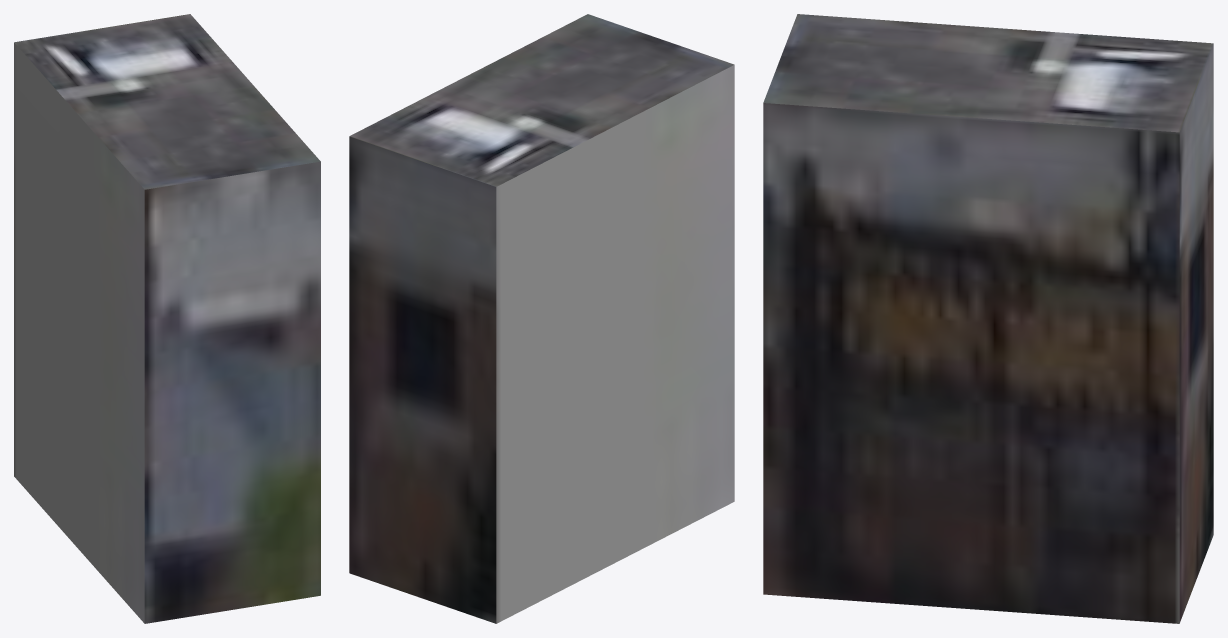
3 views of the same model, side by side, from view 1: azimuth 30°, elevation 25°; view 2: azimuth 150°, elevation 25°; view 3: azimuth 270°, elevation 25° (orthographic). The views are drawn at different scales.
Visible parts, largest first — view 1: B280494033101062A0; view 2: B280494033101062A0; view 3: B280494033101062A0.
Boxes of the visible parts, x1,y1,x2,y2 form: B280494033101062A0: (14, 14, 320, 623); B280494033101062A0: (349, 14, 734, 623); B280494033101062A0: (763, 14, 1213, 623).
Bounding box in the file's own units: 2.05 × 3.97 × 3.29.
1 material, 1 textured.
